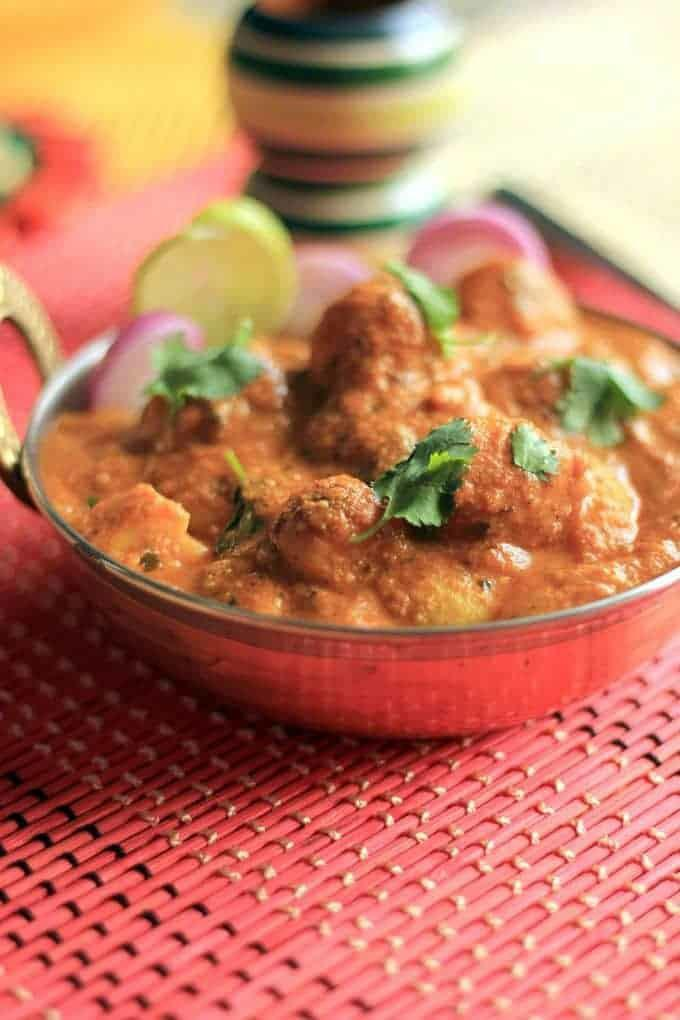DumAloo: (39, 264, 680, 624)
